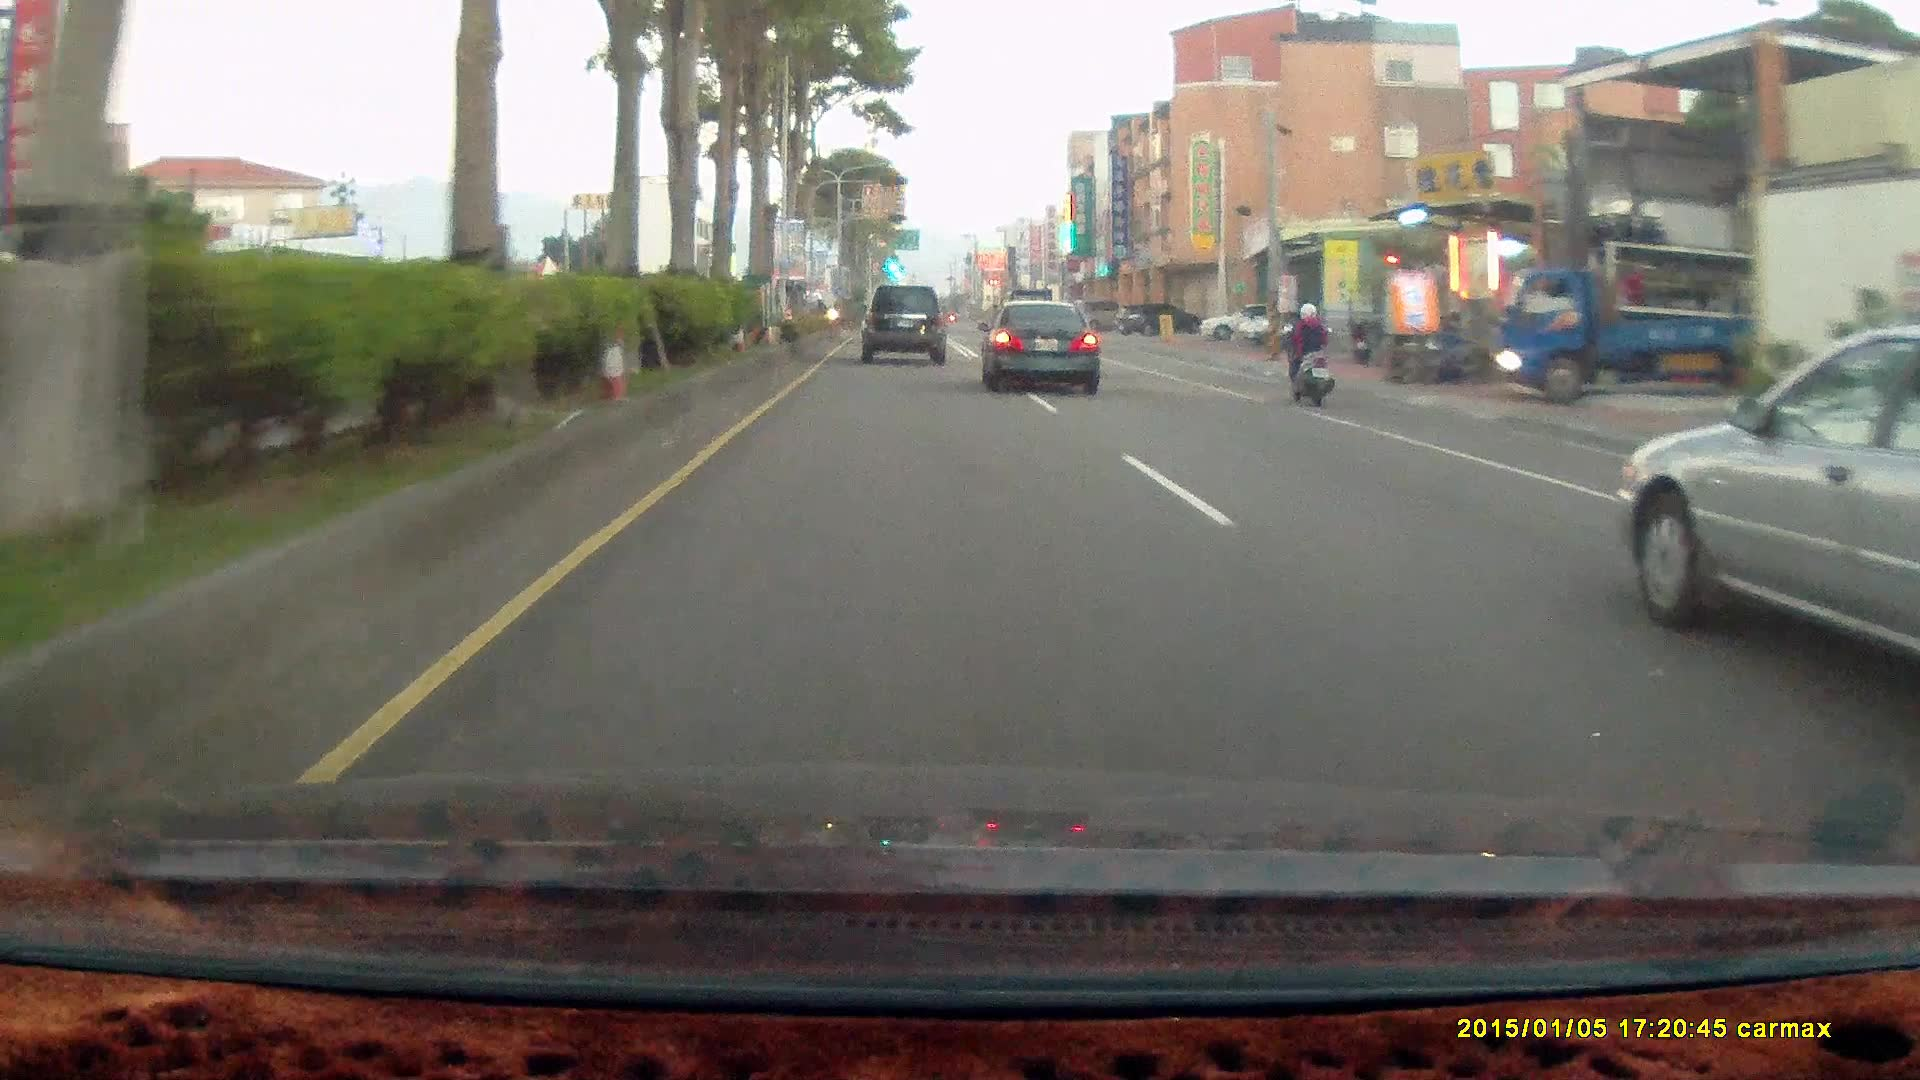rider: (1273, 290, 1347, 419), (1278, 299, 1337, 402)
vehicle: (1620, 320, 1920, 725), (1617, 326, 1919, 703), (1492, 239, 1767, 400), (1488, 269, 1809, 403), (974, 296, 1100, 392), (984, 297, 1107, 393), (862, 281, 952, 366), (860, 283, 947, 365), (1283, 296, 1387, 349), (1200, 301, 1298, 340), (1115, 304, 1200, 338), (1072, 297, 1136, 333)
